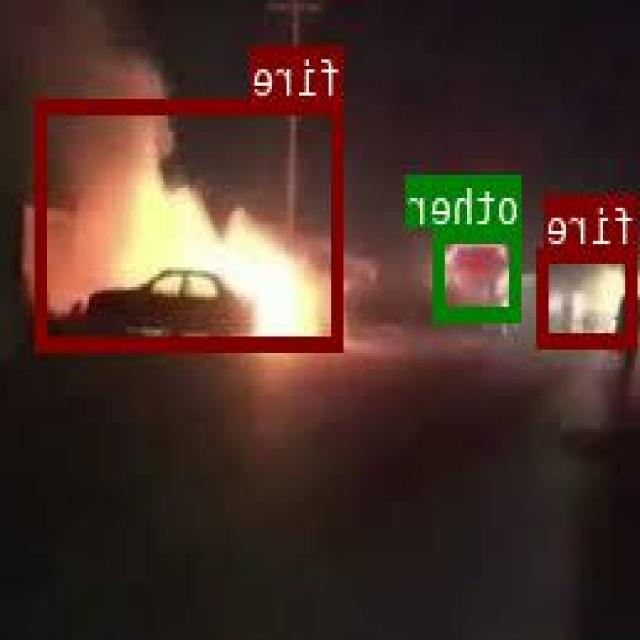fire: (38, 97, 344, 347), (541, 245, 639, 343)
other: (437, 226, 522, 320)
